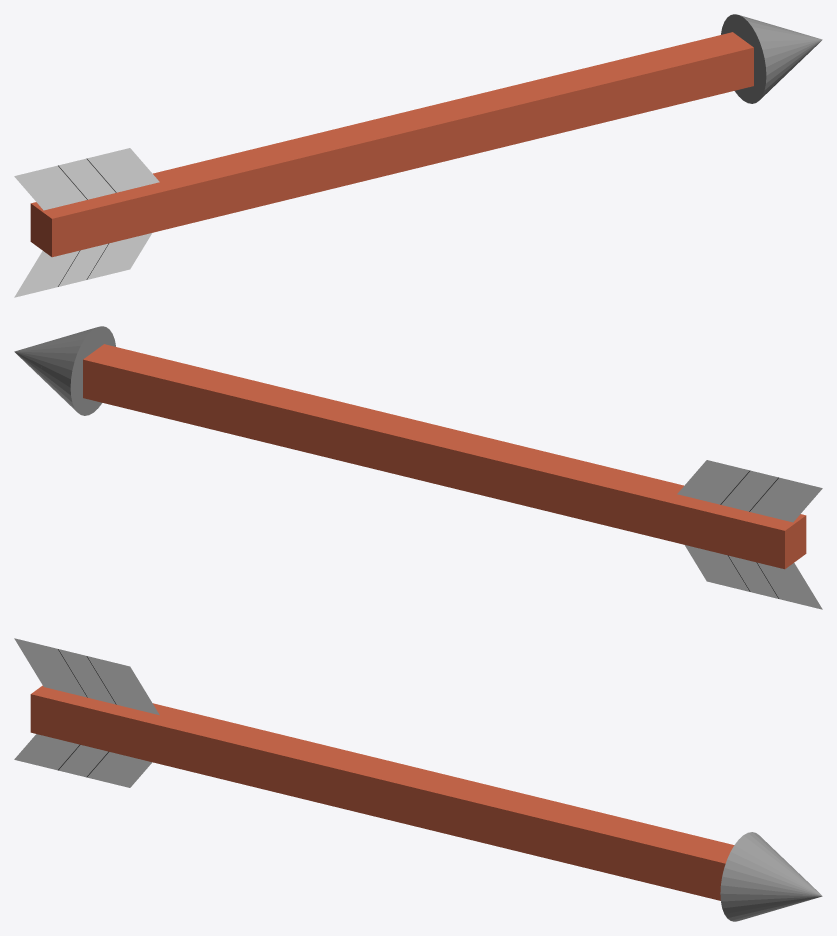
The model's file is arrow.obj.
3 renders of one model, top to bottom at view 1: azimuth 30°, elevation 25°; view 2: azimuth 150°, elevation 25°; view 3: azimuth 330°, elevation 25°, orthographic.
Visible parts, largest first — view 1: Cube, 平面, 円錐; view 2: Cube, 平面, 円錐; view 3: Cube, 平面, 円錐.
Boxes of the visible parts, x1,y1,x2,y2 form: Cube: (30,32,753,257); 平面: (14,148,159,297); 円錐: (721,14,822,103); Cube: (83,344,806,569); 平面: (677,460,822,609); 円錐: (14,326,115,415); Cube: (30,685,734,900); 平面: (14,638,159,787); 円錐: (720,832,822,921).
Bounding box in the file's own units: 0.7991 × 0.1148 × 0.0786.
1 material, 1 textured.
